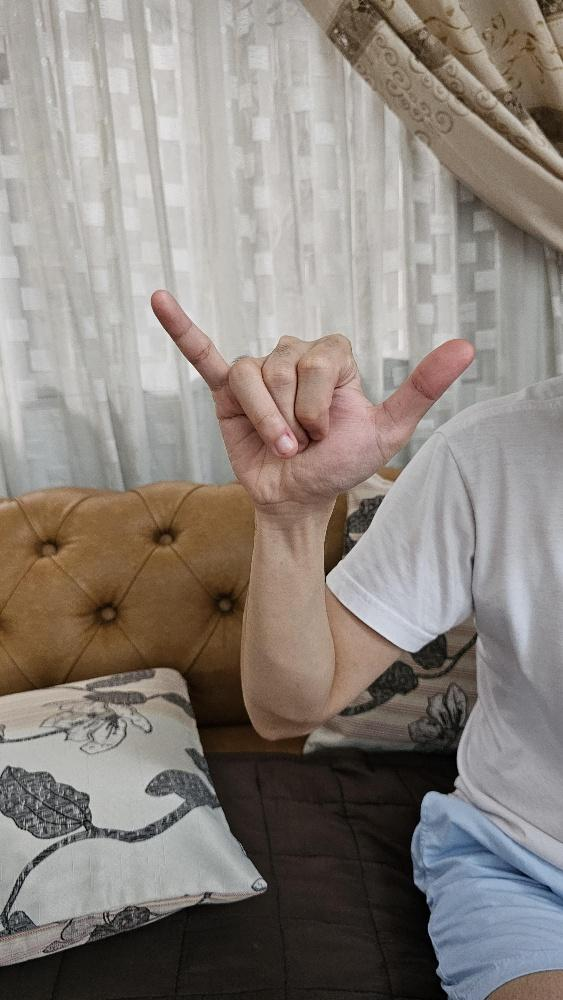y: (145, 285, 479, 514)
